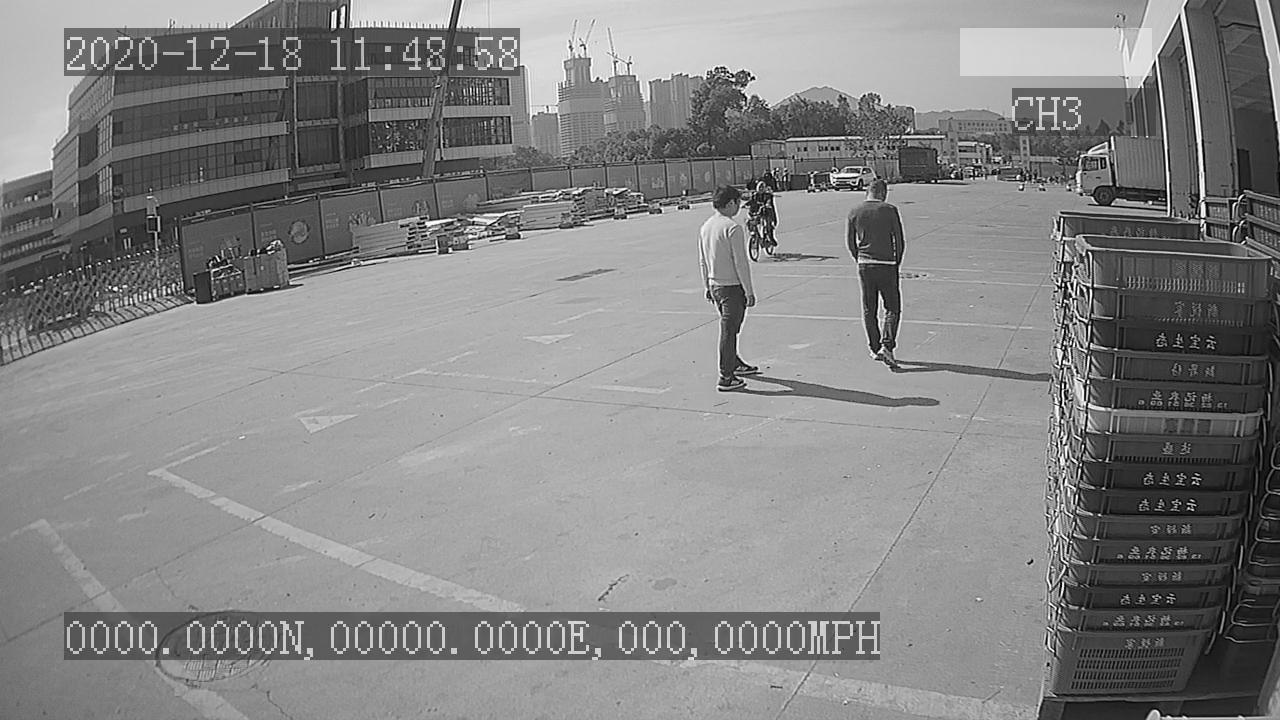person: (842, 177, 909, 378)
